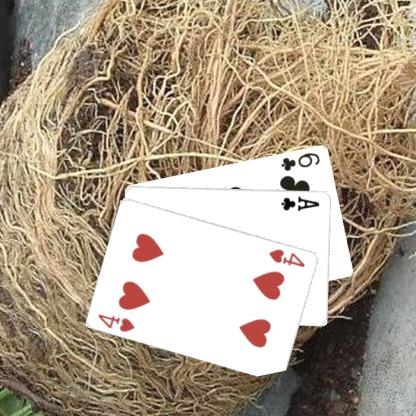4H: (266, 246, 307, 269), (96, 311, 136, 333)
6C: (278, 150, 322, 172)
AC: (279, 193, 320, 212)
